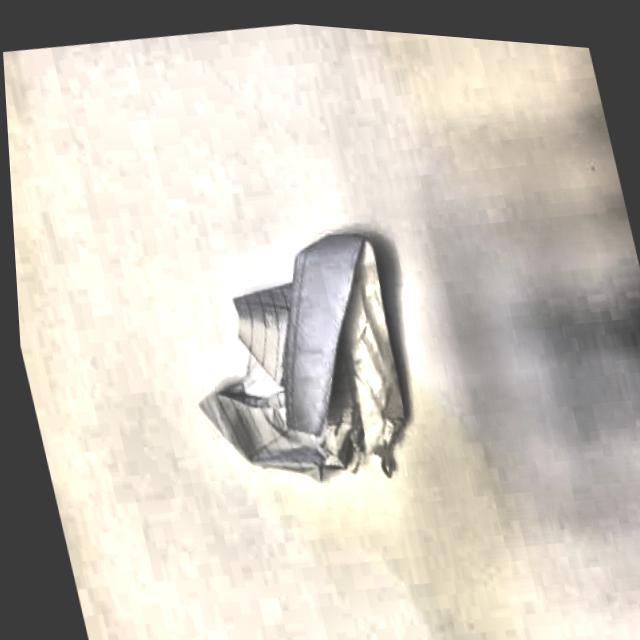Paper: (154, 193, 454, 541)
